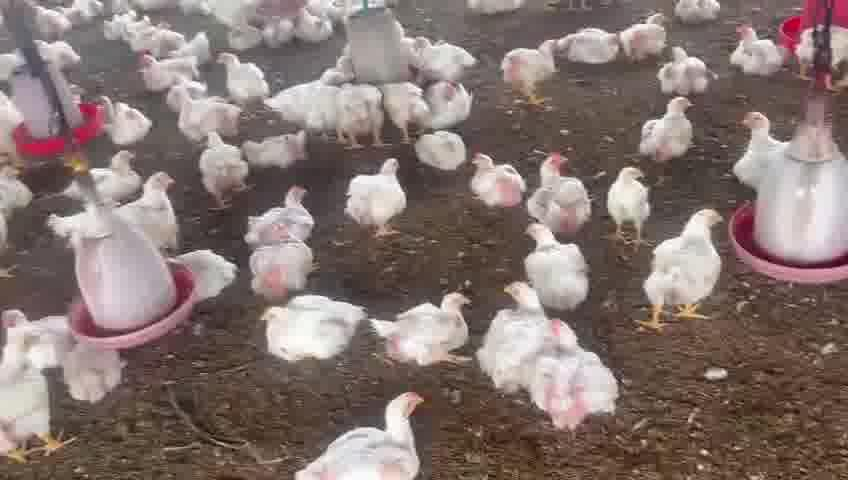AbNormal: (254, 130, 313, 170)
Normal: (289, 394, 434, 480), (535, 314, 624, 438), (380, 285, 480, 375), (474, 279, 551, 395), (259, 292, 365, 375), (646, 209, 716, 334), (516, 215, 591, 308), (634, 88, 700, 176), (346, 158, 413, 240), (109, 174, 186, 244), (251, 222, 318, 300), (242, 184, 325, 246), (598, 168, 661, 246), (536, 153, 593, 234), (500, 41, 562, 111), (462, 156, 530, 215), (170, 86, 255, 131), (338, 83, 394, 151), (728, 24, 789, 84), (200, 132, 250, 202), (658, 41, 714, 103), (95, 94, 155, 145), (220, 49, 266, 106), (413, 128, 466, 171)
